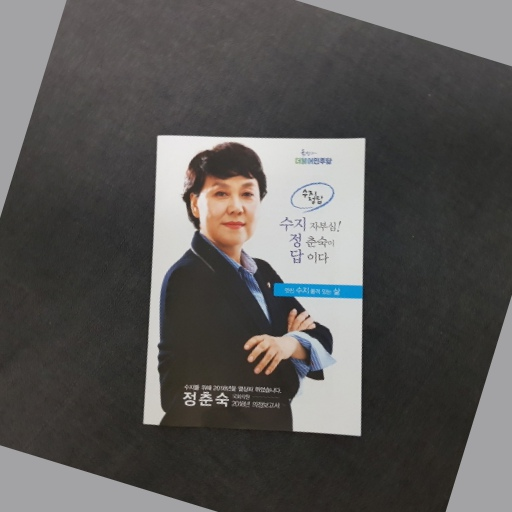Paper_2: (135, 126, 381, 453)
